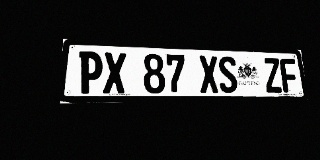7: (165, 54, 186, 93)
8: (143, 53, 165, 93)
F: (279, 58, 299, 93)
P: (78, 51, 103, 94)
S: (217, 56, 238, 93)
X: (103, 52, 126, 94), (198, 55, 220, 93)
Z: (263, 58, 283, 93)
